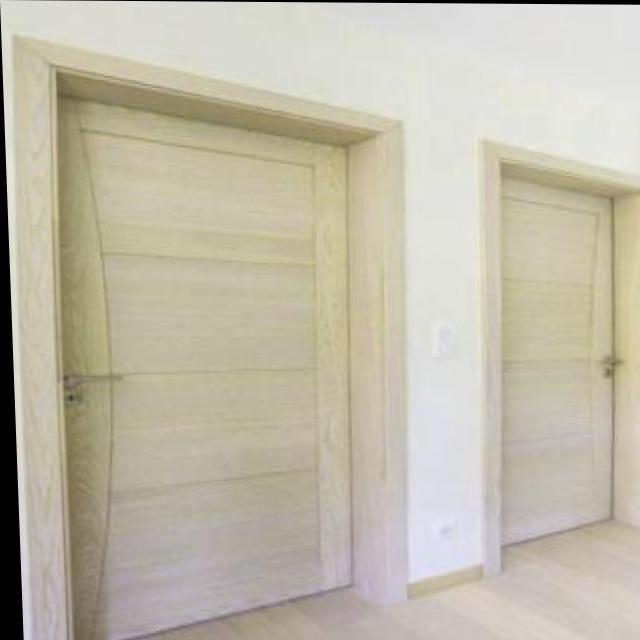door_handle: (57, 357, 135, 395), (590, 343, 633, 383)
